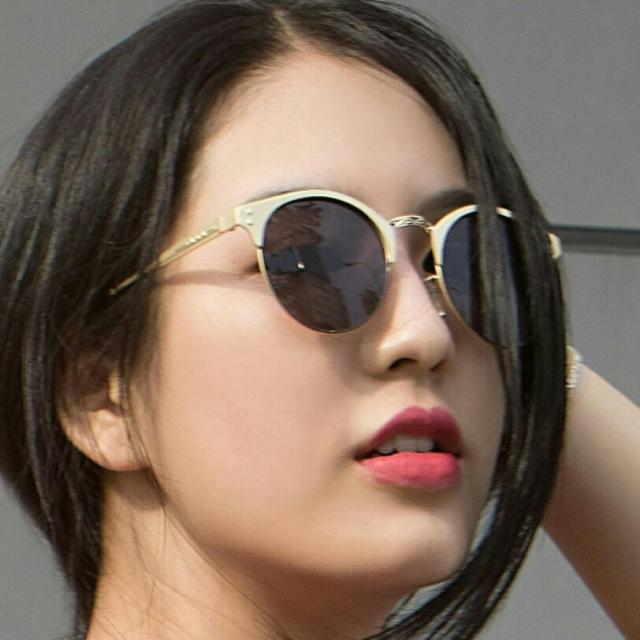front: (210, 142, 532, 524)
